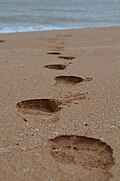human_foot_print: (48, 135, 113, 180), (17, 96, 58, 119), (54, 75, 91, 84)
